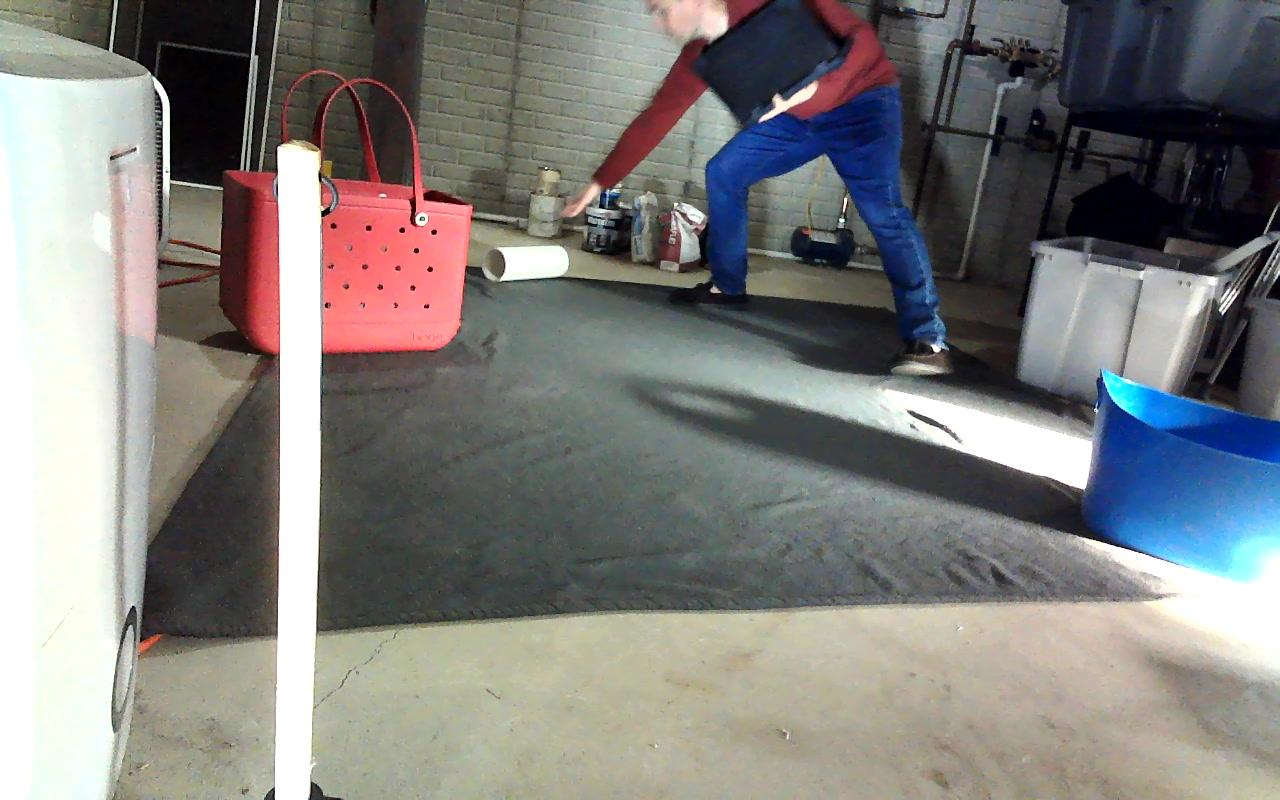coral: (475, 243, 567, 280)
